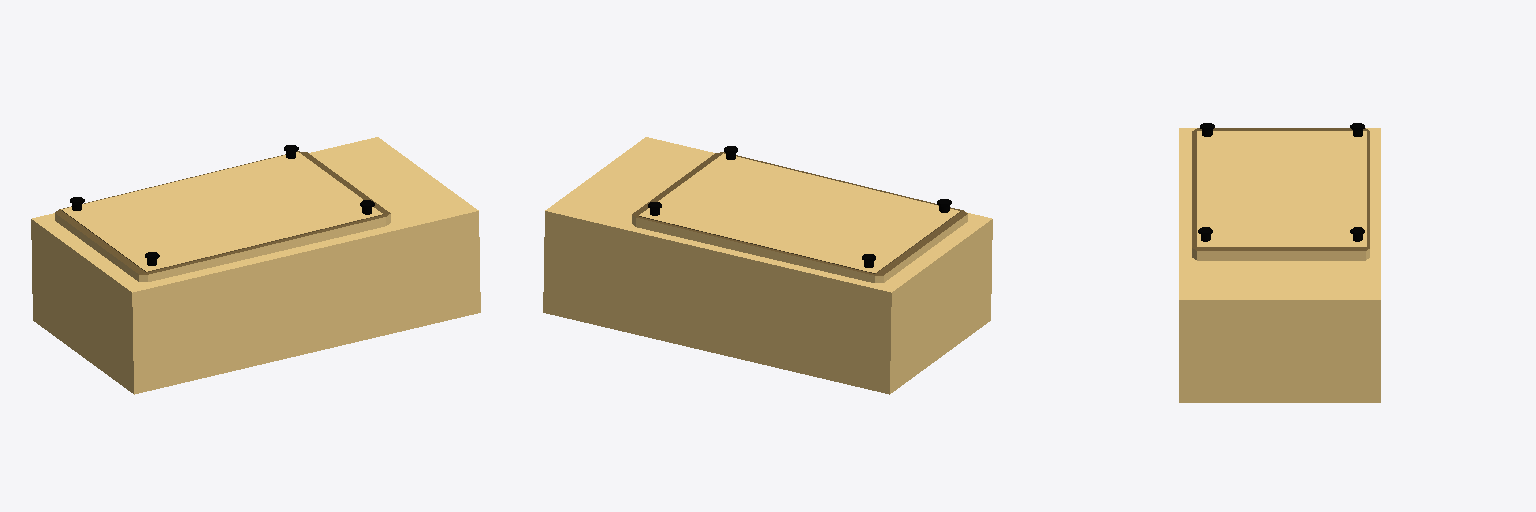
The picture shows the model from 3 angles: view 1: azimuth 30°, elevation 25°; view 2: azimuth 150°, elevation 25°; view 3: azimuth 270°, elevation 25°; orthographic projection.
Parts seen in each view (by area): view 1: CoreMaterialBuild.258_Cube.480; view 2: CoreMaterialBuild.258_Cube.480; view 3: CoreMaterialBuild.258_Cube.480.
Part boxes in pixels (x1,y1,x2,y2): CoreMaterialBuild.258_Cube.480: (31, 137, 480, 394); CoreMaterialBuild.258_Cube.480: (543, 137, 992, 394); CoreMaterialBuild.258_Cube.480: (1179, 123, 1380, 402).
Size of the model in its own units: 1.3 by 0.4438 by 0.6528.